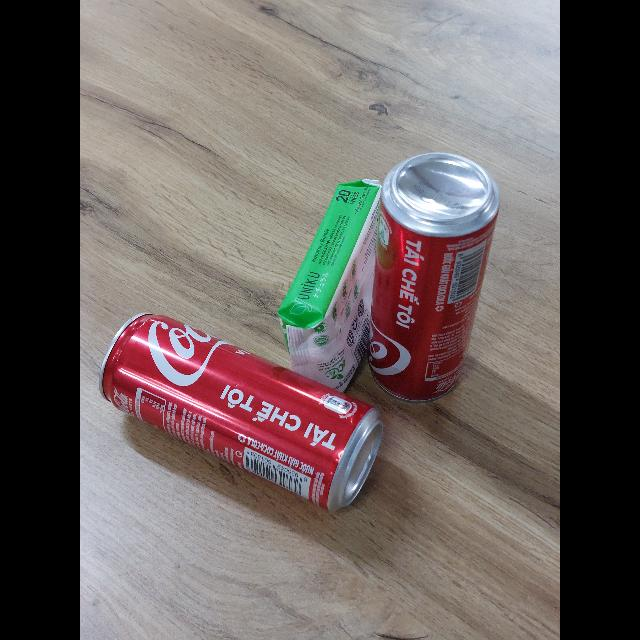coca_cola: (100, 313, 383, 511), (368, 154, 499, 402)
khan_giay: (278, 180, 381, 391)
